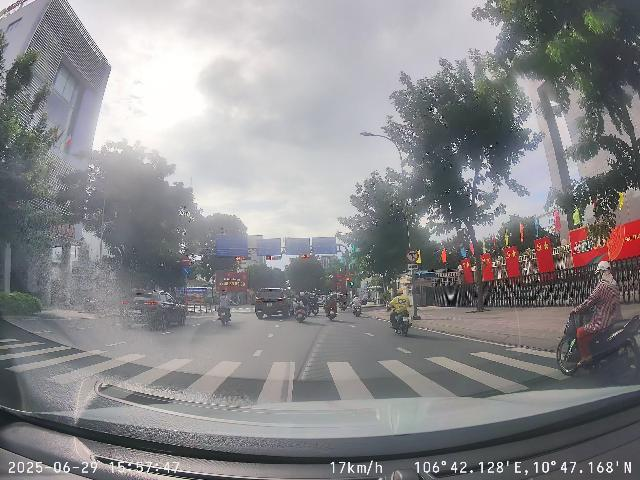137-cam-re-trai-va-re-phai: (406, 249, 419, 263)
